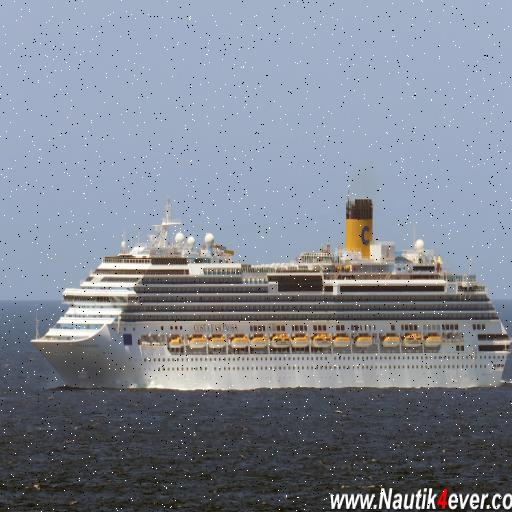cruises: (28, 184, 512, 399)
